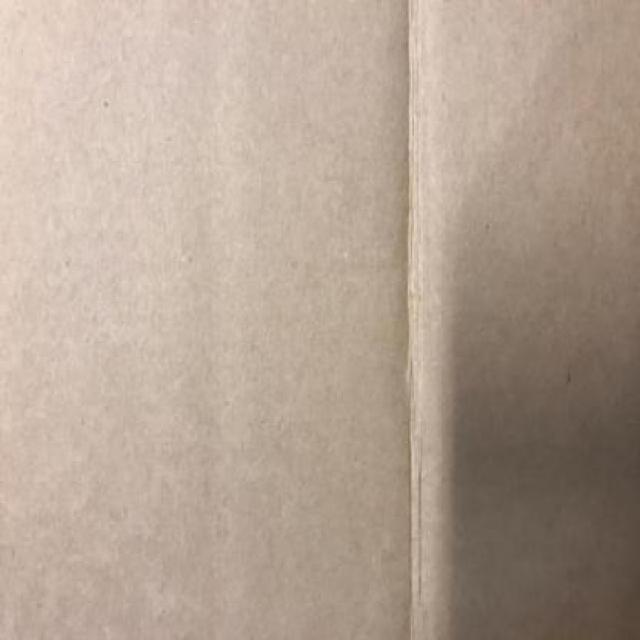CARDBOARD: (0, 0, 638, 638), (0, 0, 404, 638), (404, 0, 638, 638)
